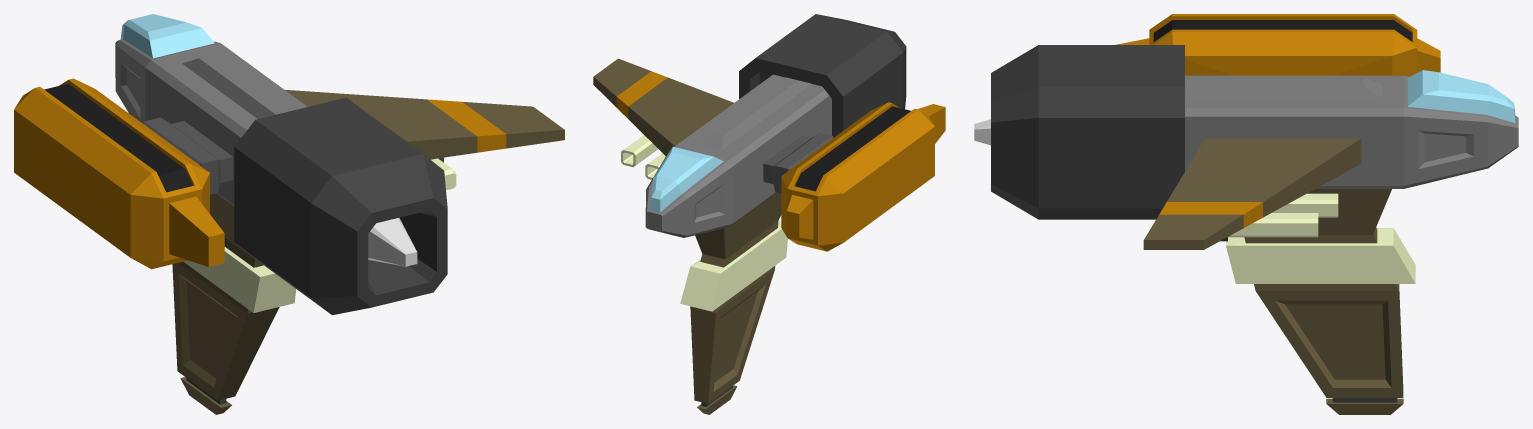
The model's file is LPSP_PersonalShip.fbx.
3 renders of one model, left to right at view 1: azimuth 30°, elevation 25°; view 2: azimuth 150°, elevation 25°; view 3: azimuth 270°, elevation 25°, orthographic. The views are drawn at different scales.
Visible parts, largest first — view 1: Cube; view 2: Cube; view 3: Cube.
Part boxes in pixels (left/top/right/bottom): Cube: left=14, top=14, right=564, bottom=414; Cube: left=593, top=14, right=945, bottom=414; Cube: left=974, top=14, right=1518, bottom=414.
Bounding box in the file's own units: 628 × 522 × 742.
